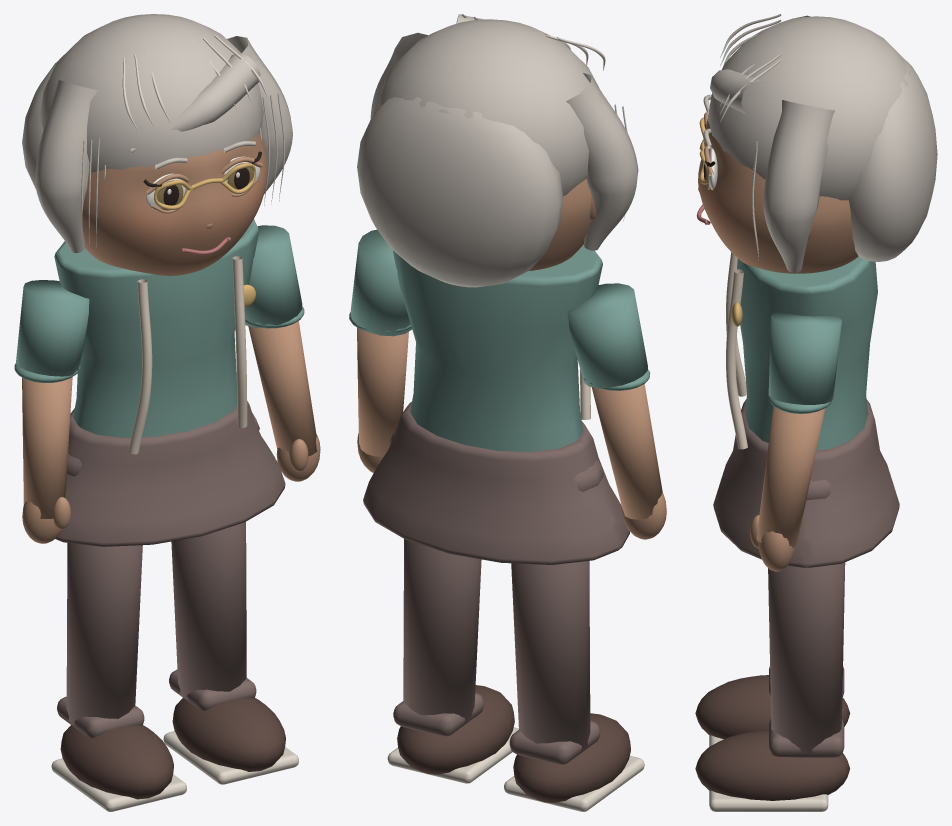
File: customer_senior.glb
3 renders of one model, left to right at view 1: azimuth 30°, elevation 25°; view 2: azimuth 150°, elevation 25°; view 3: azimuth 270°, elevation 25°, orthographic. The views are drawn at different scales.
Visible parts, largest first — view 1: Clothed_torso.006, Tailored_skirt, Hair_base.007, Head.007, Leg_L.006, Leg_R.006, silver_side_-1, Shoe_L.006, Shoe_R.006, Bare_forearm_-1.006, Sleeve_-1.006, Bare_forearm_1.006 (+12 smaller); view 2: rounded_bob_back, Clothed_torso.006, Tailored_skirt, Hair_base.007, Leg_L.006, Leg_R.006, Sleeve_-1.006, silver_side_-1, Bare_forearm_-1.006, Bare_forearm_1.006, Shoe_L.006, Shoe_R.006 (+9 smaller); view 3: Hair_base.007, Tailored_skirt, Clothed_torso.006, Leg_R.006, rounded_bob_back, Head.007, silver_side_1, Shoe_R.006, Sleeve_1.006, Bare_forearm_1.006, Shoe_L.006, Cardigan_edge_right (+6 smaller).
Part boxes in pixels (x1=…): Clothed_torso.006: x1=54, y1=219, x2=258, y2=437; Tailored_skirt: x1=55, y1=401, x2=285, y2=546; Hair_base.007: x1=40, y1=14, x2=263, y2=172; Head.007: x1=82, y1=132, x2=267, y2=275; Leg_L.006: x1=66, y1=543, x2=142, y2=725; Leg_R.006: x1=171, y1=522, x2=246, y2=700; silver_side_-1: x1=35, y1=79, x2=97, y2=252; Shoe_L.006: x1=60, y1=725, x2=173, y2=799; Shoe_R.006: x1=172, y1=698, x2=285, y2=771; Bare_forearm_-1.006: x1=22, y1=377, x2=72, y2=518; Sleeve_-1.006: x1=16, y1=280, x2=89, y2=376; Bare_forearm_1.006: x1=248, y1=321, x2=317, y2=456; rounded_bob_back: x1=357, y1=97, x2=563, y2=287; Clothed_torso.006: x1=393, y1=244, x2=602, y2=451; Tailored_skirt: x1=363, y1=402, x2=629, y2=564; Hair_base.007: x1=377, y1=19, x2=598, y2=195; Leg_L.006: x1=511, y1=561, x2=590, y2=750; Leg_R.006: x1=403, y1=539, x2=481, y2=724; Sleeve_-1.006: x1=567, y1=283, x2=647, y2=388; silver_side_-1: x1=566, y1=73, x2=638, y2=250; Bare_forearm_-1.006: x1=591, y1=384, x2=662, y2=519; Bare_forearm_1.006: x1=357, y1=327, x2=408, y2=456; Shoe_L.006: x1=513, y1=713, x2=630, y2=803; Shoe_R.006: x1=397, y1=685, x2=514, y2=774; Hair_base.007: x1=707, y1=16, x2=910, y2=200; Tailored_skirt: x1=713, y1=399, x2=899, y2=567; Clothed_torso.006: x1=737, y1=256, x2=877, y2=450; Leg_R.006: x1=768, y1=562, x2=845, y2=753; rounded_bob_back: x1=849, y1=56, x2=937, y2=261; Head.007: x1=698, y1=119, x2=858, y2=273; silver_side_1: x1=763, y1=100, x2=834, y2=272; Shoe_R.006: x1=695, y1=730, x2=849, y2=800; Sleeve_1.006: x1=768, y1=312, x2=841, y2=404; Bare_forearm_1.006: x1=756, y1=406, x2=825, y2=547; Shoe_L.006: x1=695, y1=675, x2=850, y2=738; Cardigan_edge_right: x1=726, y1=269, x2=747, y2=449.
Size of the model in its own units: 0.8072 by 1.92 by 0.5673.
15 materials, 1 textured.
